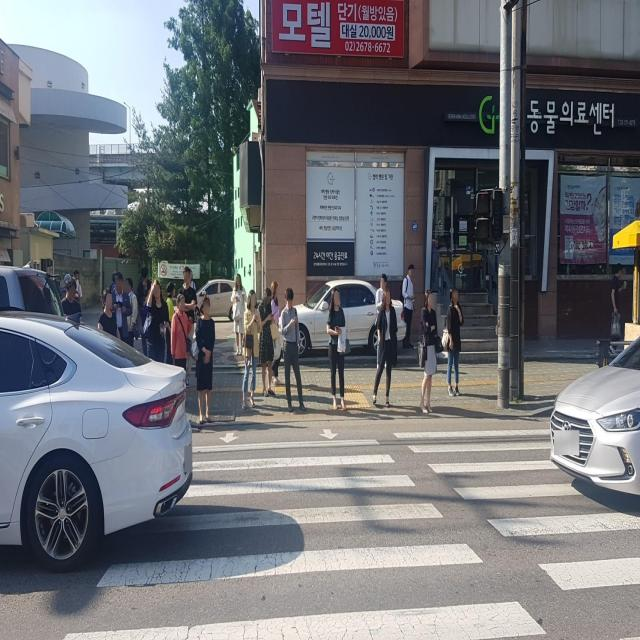횡단보도: (62, 426, 640, 640)
